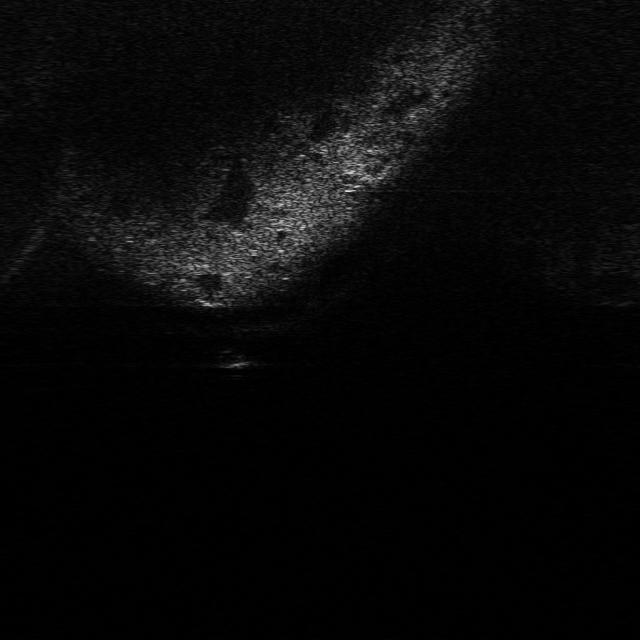cube: (210, 343, 256, 375)
